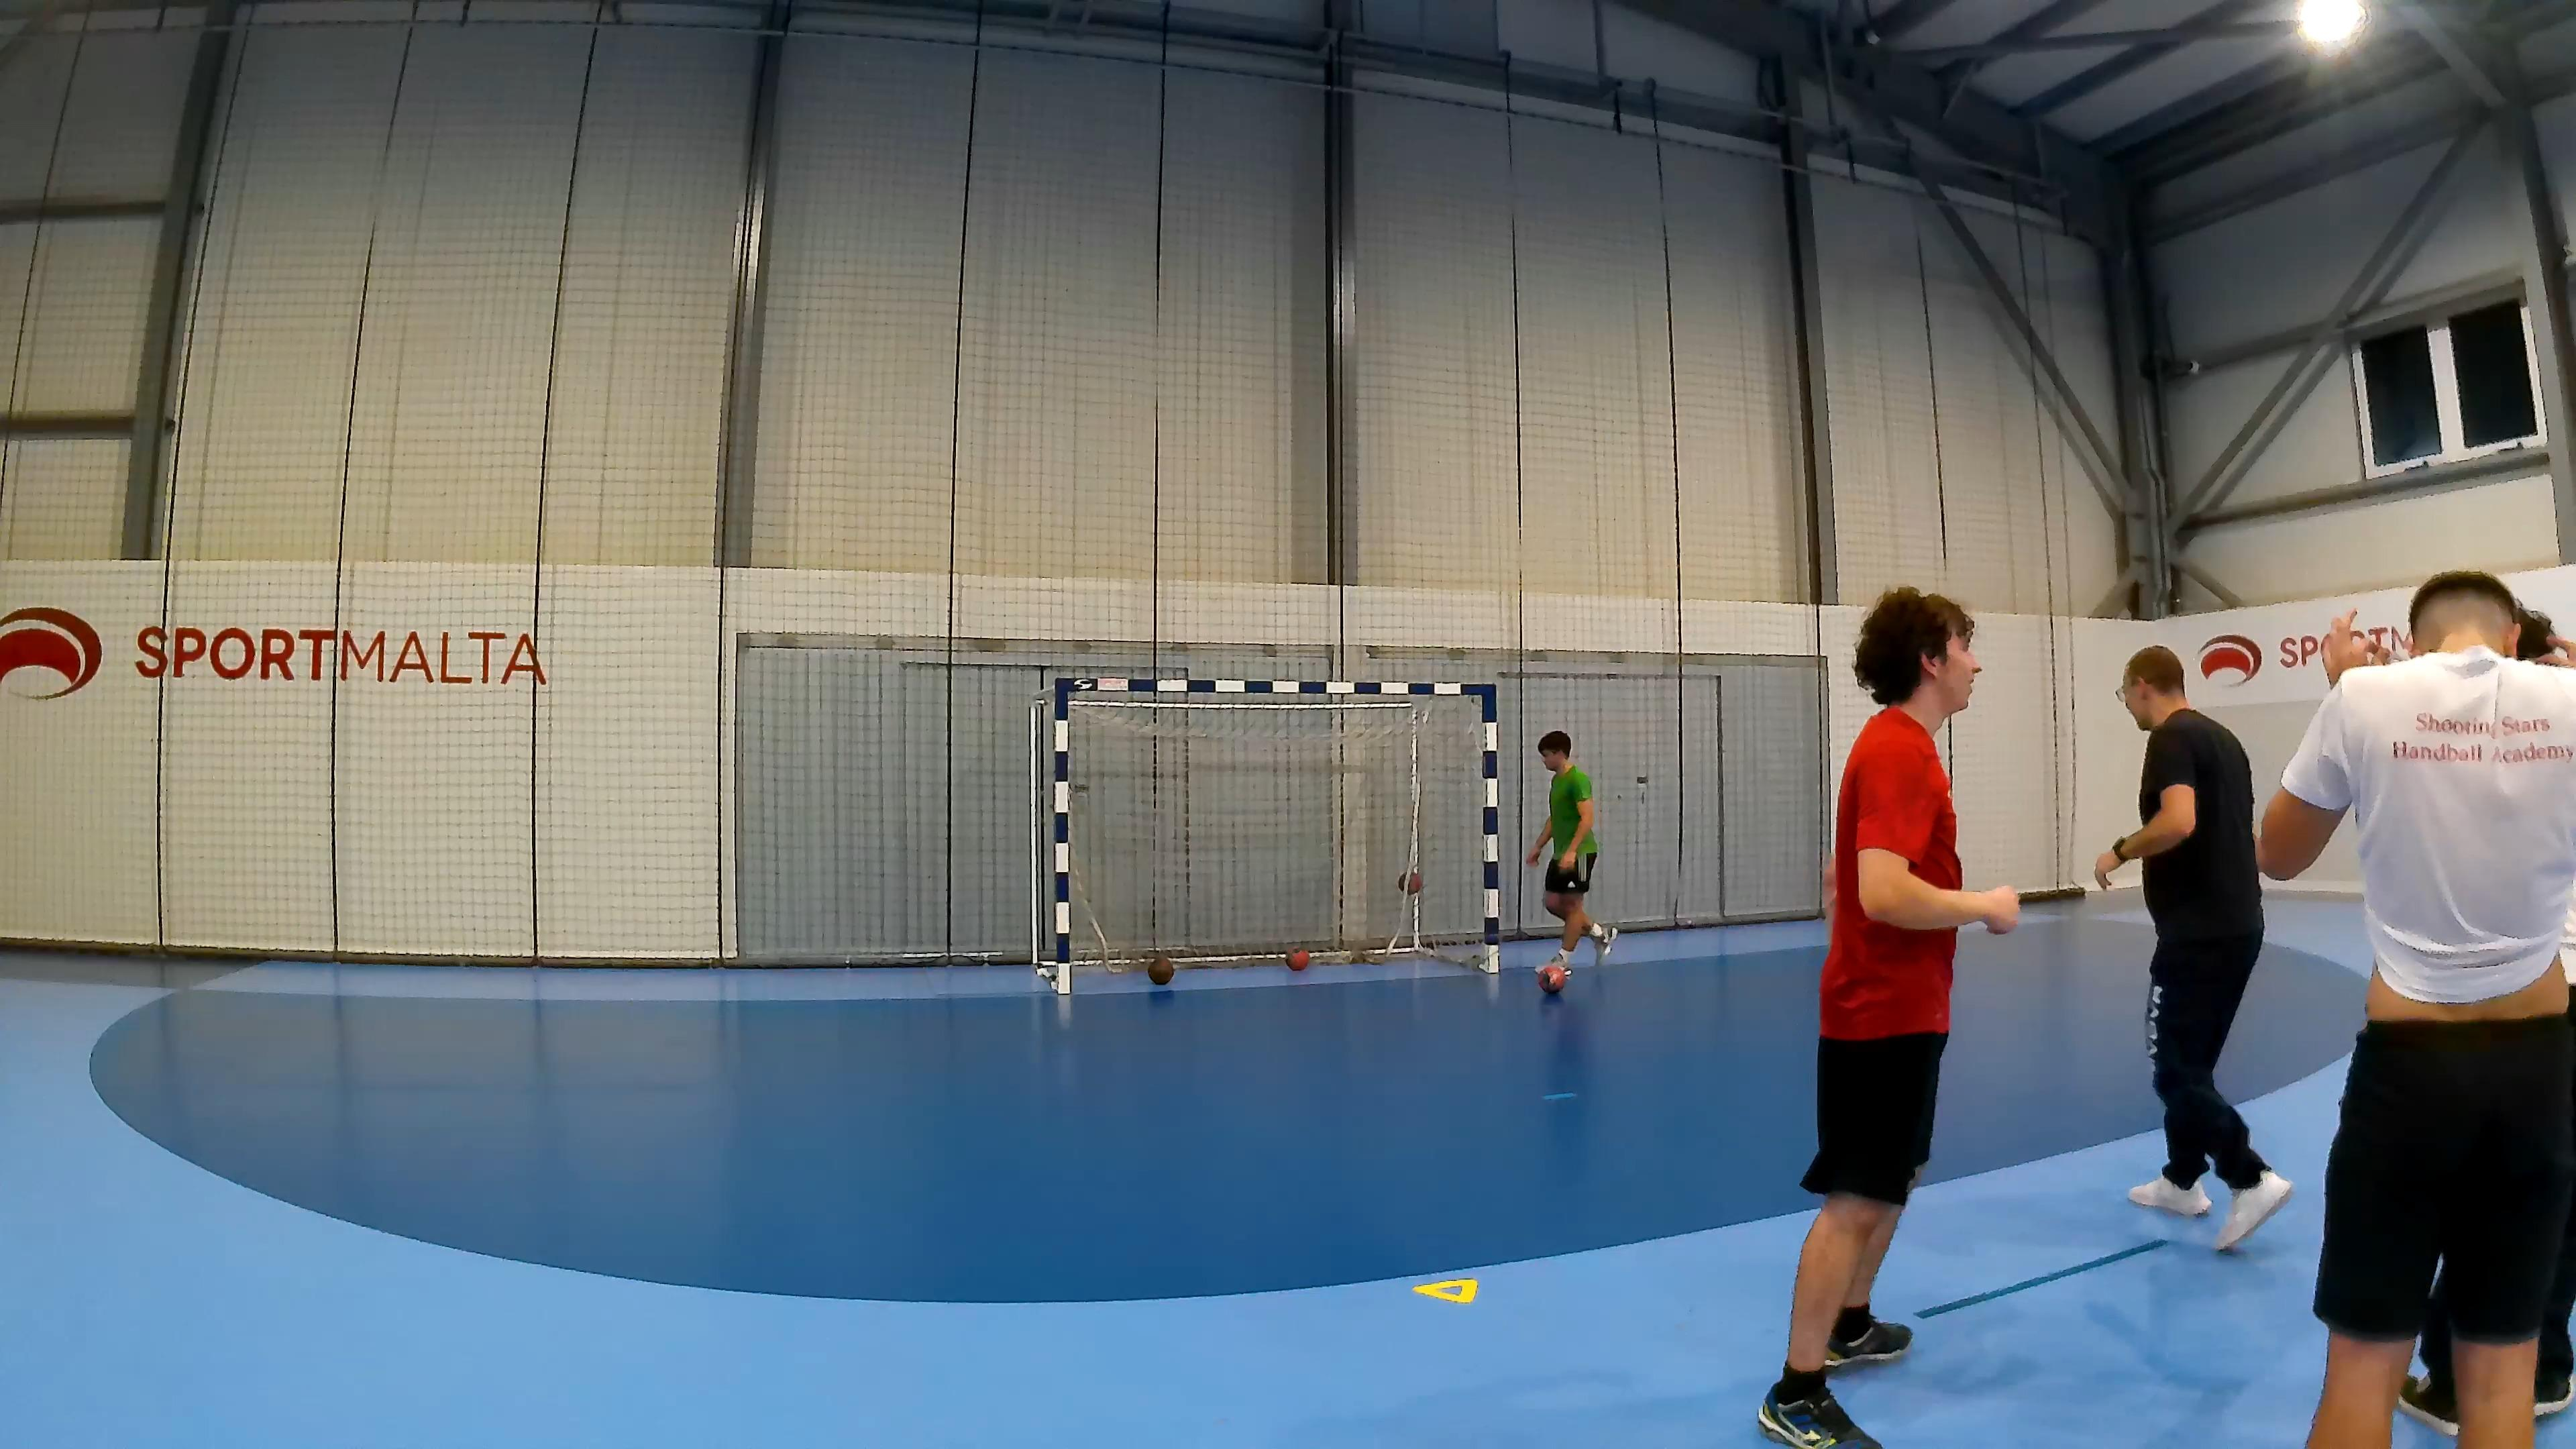handball: (1536, 962, 1569, 1000), (1392, 865, 1430, 897), (1146, 952, 1175, 985), (1283, 948, 1311, 973)
